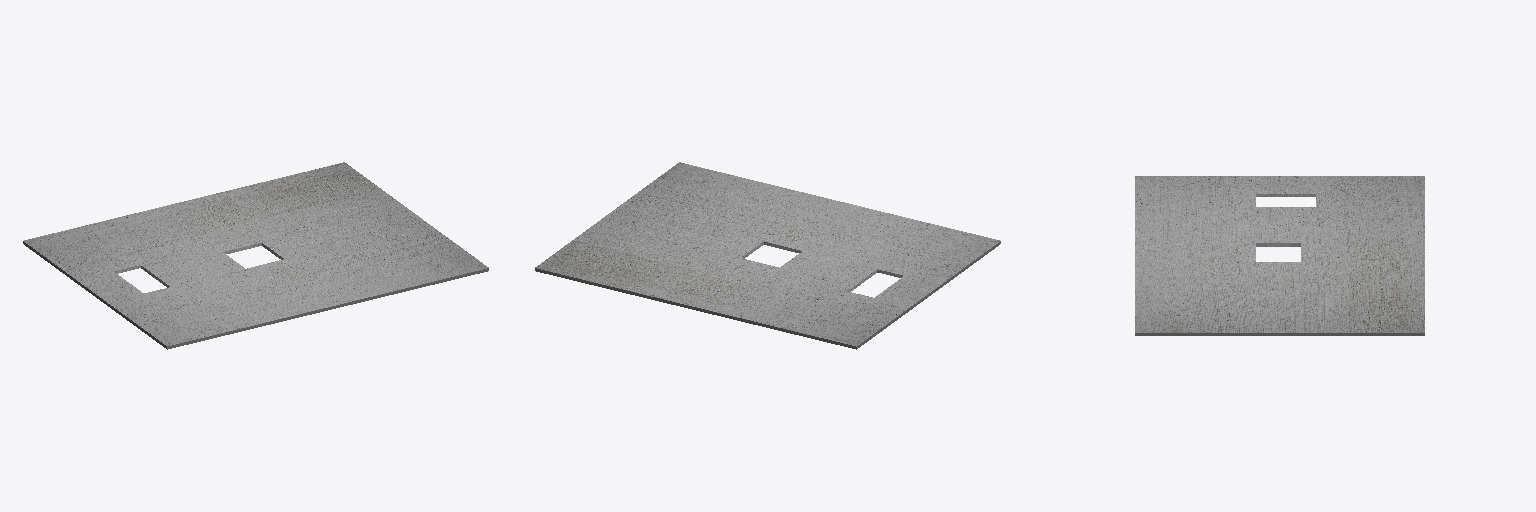
The picture shows the model from 3 angles: view 1: azimuth 30°, elevation 25°; view 2: azimuth 150°, elevation 25°; view 3: azimuth 270°, elevation 25°; orthographic projection.
Parts seen in each view (by area): view 1: pasted__polySurface66 pasted__polySurface27 group56; view 2: pasted__polySurface66 pasted__polySurface27 group56; view 3: pasted__polySurface66 pasted__polySurface27 group56.
Boxes of the visible parts, x1,y1,x2,y2 form: pasted__polySurface66 pasted__polySurface27 group56: [23, 162, 488, 349]; pasted__polySurface66 pasted__polySurface27 group56: [535, 162, 1000, 349]; pasted__polySurface66 pasted__polySurface27 group56: [1135, 176, 1424, 335].
Bounding box in the file's own units: 67.55 × 0.6457 × 52.53.
2 materials, 1 textured.